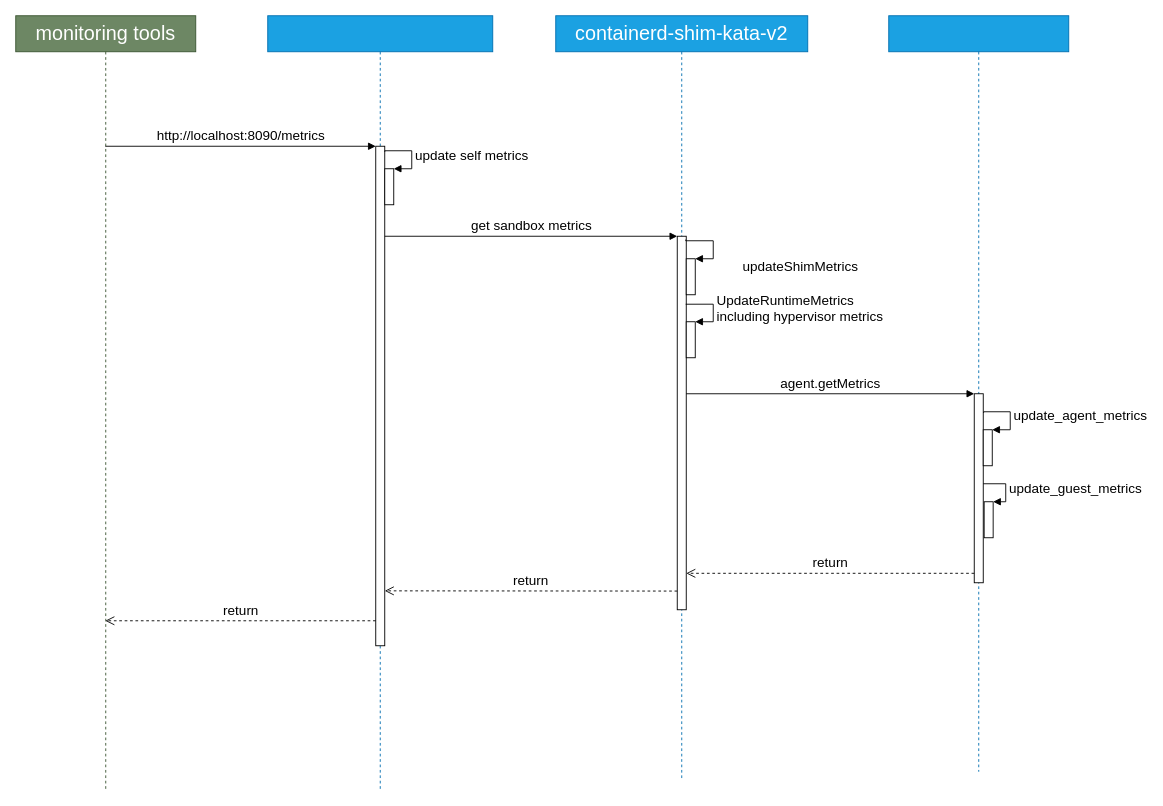
This 1163x806 diagram has some shape labels left out. Each missing label, with the box of its shape:
agent: (888, 15, 1069, 772)
kata-magent: (267, 15, 493, 790)
